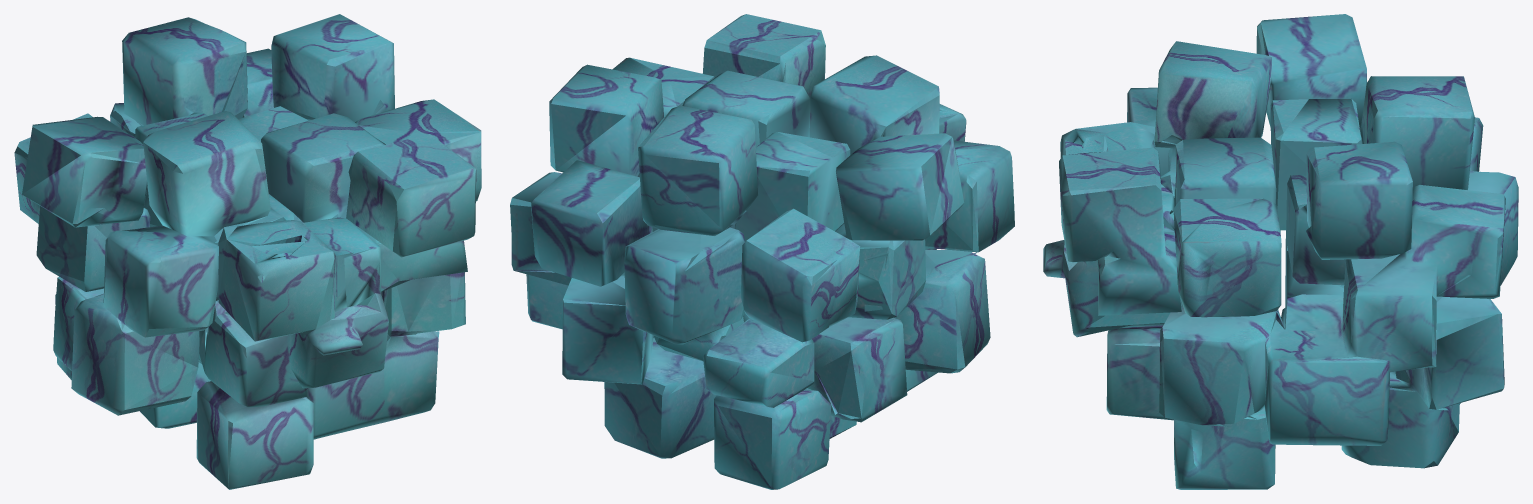
Rendered from Fluorite.fbx.
3 views of the same model, side by side, from view 1: azimuth 30°, elevation 25°; view 2: azimuth 150°, elevation 25°; view 3: azimuth 270°, elevation 25° (orthographic). The views are drawn at different scales.
Visible parts, largest first — view 1: Mesh_0; view 2: Mesh_0; view 3: Mesh_0.
Part boxes in pixels (x1,y1,x2,y2): Mesh_0: (14, 14, 481, 489); Mesh_0: (510, 14, 1014, 489); Mesh_0: (1043, 14, 1518, 489).
Size of the model in its own units: 186 by 150 by 189.
Materials: 1 (1 with a texture image).
